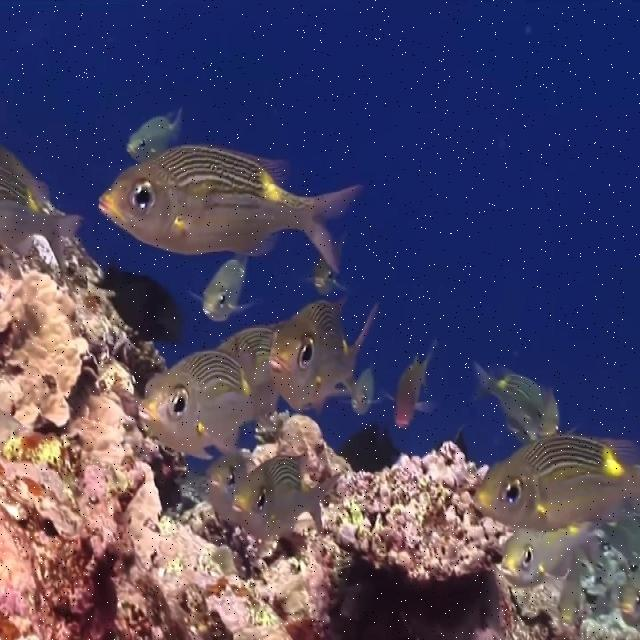fish: (0, 238, 639, 639), (96, 146, 361, 272), (473, 434, 639, 534), (139, 350, 281, 459), (270, 296, 376, 412), (0, 149, 83, 274), (232, 452, 341, 538), (500, 525, 603, 583), (473, 365, 561, 432), (382, 341, 438, 426), (186, 261, 253, 323), (207, 448, 258, 522), (126, 110, 184, 158)
